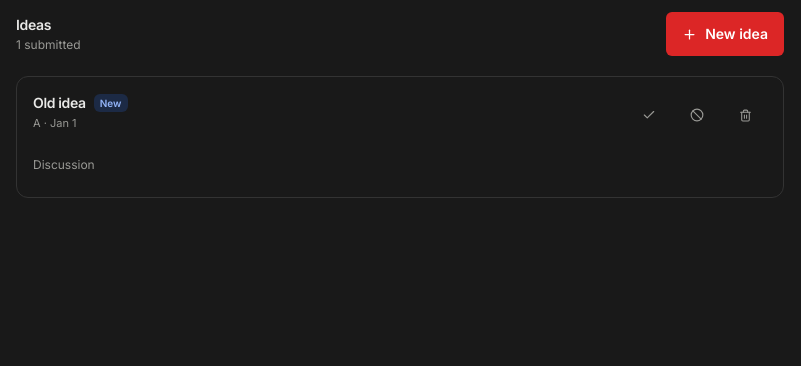
Test: IdeasView — controls › says whether the discussion is open
Click the button "Discussion". click: click(64, 165)
box: [29, 149, 99, 181]
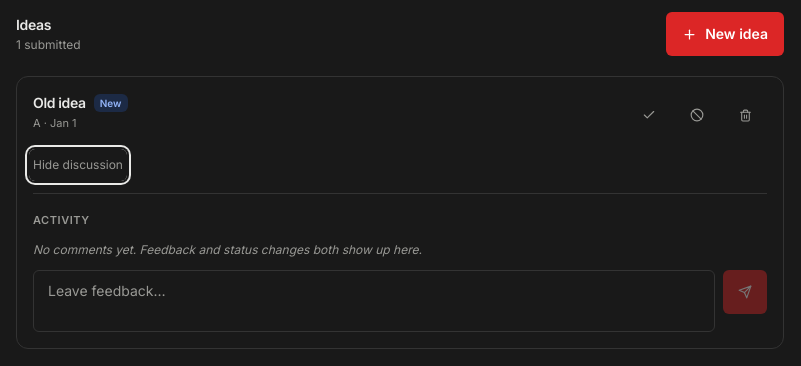
Now the button "Hide discussion" is expanded, box [29, 149, 127, 181]
